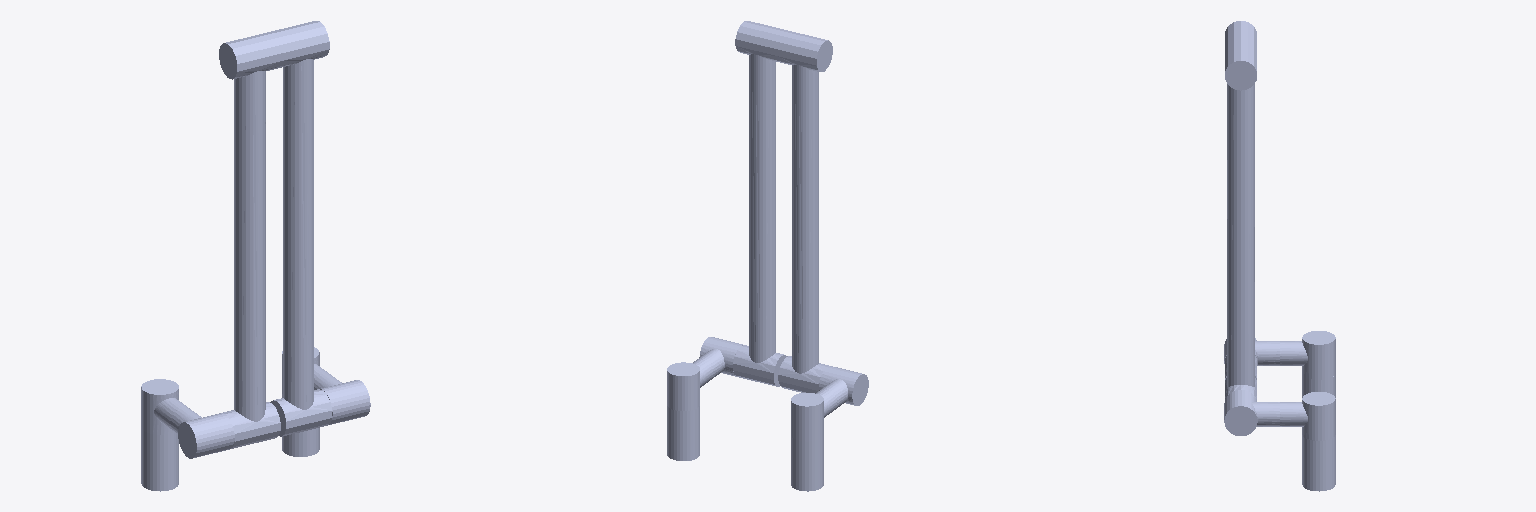
The robot description file, URDF, robot "jxb_z":
<?xml version="1.0" encoding="utf-8"?>
<!-- This URDF was automatically created by SolidWorks to URDF Exporter! Originally created by Stephen Brawner (brawner@gmail.com) 
     Commit Version: 1.6.0-4-g7f85cfe  Build Version: 1.6.7995.38578
     For more information, please see http://wiki.ros.org/sw_urdf_exporter -->
<robot
  name="jxb_z">
  <link name="world"/>
  <joint name="world_to_base_fixed_joint" type="fixed">
    <parent link="world"/>
    <child link="base_link"/>
    <origin xyz="0 0 0" rpy="0 0 0"/>
  </joint>
  <link
    name="base_link">
    <inertial>
      <origin
        xyz="8.8818E-16 0 0.5"
        rpy="0 0 0" />
      <mass
        value="28.274" />
      <inertia
        ixx="2.9924"
        ixy="1.2126E-32"
        ixz="4.6259E-17"
        iyy="2.9924"
        iyz="7.3687E-32"
        izz="1.2723" />
    </inertial>
    <visual>
      <origin
        xyz="0 0 0"
        rpy="0 0 0" />
      <geometry>
        <mesh
          filename="package://meshes/visual/base_link.STL" />
      </geometry>
      <material
        name="">
        <color
          rgba="0.79216 0.81961 0.93333 1" />
      </material>
    </visual>
    <collision>
      <origin
        xyz="0 0 0"
        rpy="0 0 0" />
      <geometry>
        <mesh
          filename="package://meshes/collision/base_link.STL" />
      </geometry>
    </collision>
  </link>
  <link
    name="link1">
    <inertial>
      <origin
        xyz="-2.4147E-08 -0.12374 -0.033299"
        rpy="0 0 0" />
      <mass
        value="26.519" />
      <inertia
        ixx="2.6441"
        ixy="-1.5987E-06"
        ixz="1.7625E-06"
        iyy="1.437"
        iyz="0.10927"
        izz="2.2777" />
    </inertial>
    <visual>
      <origin
        xyz="0 0 0"
        rpy="0 0 0" />
      <geometry>
        <mesh
          filename="package://meshes/visual/link1.STL" />
      </geometry>
      <material
        name="">
        <color
          rgba="0.79216 0.81961 0.93333 1" />
      </material>
    </visual>
    <collision>
      <origin
        xyz="0 0 0"
        rpy="0 0 0" />
      <geometry>
        <mesh
          filename="package://meshes/collision/link1.STL" />
      </geometry>
    </collision>
  </link>
  <joint
    name="joint1"
    type="revolute">
    <origin
      xyz="0 0 1.3946"
      rpy="0 0 0" />
    <parent
      link="base_link" />
    <child
      link="link1" />
    <axis
      xyz="0 0 1" />
    <limit
      lower="-4.2"
      upper="4.2"
      effort="1400"
      velocity="0.02" />
  </joint>
  <link
    name="link2">
    <inertial>
      <origin
        xyz="2.4147E-08 -0.033299 -0.12374"
        rpy="0 0 0" />
      <mass
        value="26.519" />
      <inertia
        ixx="2.6441"
        ixy="-1.7625E-06"
        ixz="1.5987E-06"
        iyy="2.2777"
        iyz="0.10927"
        izz="1.437" />
    </inertial>
    <visual>
      <origin
        xyz="0 0 0"
        rpy="0 0 0" />
      <geometry>
        <mesh
          filename="package://meshes/visual/link2.STL" />
      </geometry>
      <material
        name="">
        <color
          rgba="0.79216 0.81961 0.93333 1" />
      </material>
    </visual>
    <collision>
      <origin
        xyz="0 0 0"
        rpy="0 0 0" />
      <geometry>
        <mesh
          filename="package://meshes/collision/link2.STL" />
      </geometry>
    </collision>
  </link>
  <joint
    name="joint2"
    type="revolute">
    <origin
      xyz="0 -1.4 0"
      rpy="1.5708 1.5708 0" />
    <parent
      link="link1" />
    <child
      link="link2" />
    <axis
      xyz="0 0 1" />
    <limit
      lower="-4.2"
      upper="4.2"
      effort="1400"
      velocity="0.02" />
  </joint>
  <link
    name="link3">
    <inertial>
      <origin
        xyz="3.24999928445104 -8.30825477304842E-08 9.30659118658639E-07"
        rpy="0 0 0" />
      <mass
        value="165.055598878672" />
      <inertia
        ixx="7.67393622730273"
        ixy="0.000310929008824329"
        ixz="-3.90535221178077"
        iyy="859.721114184828"
        iyz="-0.000018551733039362"
        izz="857.903591002343" />
    </inertial>
    <visual>
      <origin
        xyz="0 0 0"
        rpy="0 0 0" />
      <geometry>
        <mesh
          filename="package://meshes/visual/link3.STL" />
      </geometry>
      <material
        name="">
        <color
          rgba="0.792156862745098 0.819607843137255 0.933333333333333 1" />
      </material>
    </visual>
    <collision>
      <origin
        xyz="0 0 0"
        rpy="0 0 0" />
      <geometry>
        <mesh
          filename="package://meshes/collision/link3.STL" />
      </geometry>
    </collision>
  </link>
  <joint
    name="joint3"
    type="revolute">
    <origin
      xyz="0 -0.84462 0"
      rpy="-1.5708 0 -3.1416" />
    <parent
      link="link2" />
    <child
      link="link3" />
    <axis
      xyz="0 0 1" />
    <limit
      lower="-4.2"
      upper="4.2"
      effort="1400"
      velocity="0.02" />
  </joint>
  <link
    name="link4">
    <inertial>
      <origin
        xyz="3.25000071554896 -8.30825486186626E-08 -9.3065911777046E-07"
        rpy="0 0 0" />
      <mass
        value="165.055598878671" />
      <inertia
        ixx="7.67393622730272"
        ixy="-0.00031092900887968"
        ixz="-3.9053522117808"
        iyy="859.721114184827"
        iyz="0.0000185517330379911"
        izz="857.903591002342" />
    </inertial>
    <visual>
      <origin
        xyz="0 0 0"
        rpy="0 0 0" />
      <geometry>
        <mesh
          filename="package://meshes/visual/link4.STL" />
      </geometry>
      <material
        name="">
        <color
          rgba="0.792156862745098 0.819607843137255 0.933333333333333 1" />
      </material>
    </visual>
    <collision>
      <origin
        xyz="0 0 0"
        rpy="0 0 0" />
      <geometry>
        <mesh
          filename="package://meshes/collision/link4.STL" />
      </geometry>
    </collision>
  </link>
  <joint
    name="joint4"
    type="revolute">
    <origin
      xyz="6.5 0 0.9"
      rpy="0 0 -3.1416" />
    <parent
      link="link3" />
    <child
      link="link4" />
    <axis
      xyz="0 0 1" />
    <limit
      lower="-4.2"
      upper="4.2"
      effort="1400"
      velocity="0.02" />
  </joint>
  <link
    name="link5">
    <inertial>
      <origin
        xyz="-2.4147E-08 -0.12374 -0.033299"
        rpy="0 0 0" />
      <mass
        value="26.519" />
      <inertia
        ixx="2.6441"
        ixy="-1.5987E-06"
        ixz="1.7625E-06"
        iyy="1.437"
        iyz="0.10927"
        izz="2.2777" />
    </inertial>
    <visual>
      <origin
        xyz="0 0 0"
        rpy="0 0 0" />
      <geometry>
        <mesh
          filename="package://meshes/visual/link5.STL" />
      </geometry>
      <material
        name="">
        <color
          rgba="0.79216 0.81961 0.93333 1" />
      </material>
    </visual>
    <collision>
      <origin
        xyz="0 0 0"
        rpy="0 0 0" />
      <geometry>
        <mesh
          filename="package://meshes/collision/link5.STL" />
      </geometry>
    </collision>
  </link>
  <joint
    name="joint5"
    type="revolute">
    <origin
      xyz="6.5 0 0.84462"
      rpy="0 0 0" />
    <parent
      link="link4" />
    <child
      link="link5" />
    <axis
      xyz="0 0 1" />
    <limit
      lower="-4.2"
      upper="4.2"
      effort="1400"
      velocity="0.02" />
  </joint>
  <link
    name="link6">
    <inertial>
      <origin
        xyz="2.41473299134043E-08 -0.0332987872996737 -0.123744412237511"
        rpy="0 0 0" />
      <mass
        value="26.5185252602342" />
      <inertia
        ixx="2.64411663116475"
        ixy="-1.76246296483516E-06"
        ixz="1.59873986564568E-06"
        iyy="2.27771417994653"
        iyz="0.109270517187409"
        izz="1.43697100438134" />
    </inertial>
    <visual>
      <origin
        xyz="0 0 0"
        rpy="0 0 0" />
      <geometry>
        <mesh
          filename="package://meshes/visual/link6.STL" />
      </geometry>
      <material
        name="">
        <color
          rgba="0.792156862745098 0.819607843137255 0.933333333333333 1" />
      </material>
    </visual>
    <collision>
      <origin
        xyz="0 0 0"
        rpy="0 0 0" />
      <geometry>
        <mesh
          filename="package://meshes/collision/link6.STL" />
      </geometry>
    </collision>
  </link>
  <joint
    name="joint6"
    type="revolute">
    <origin
      xyz="0 -1.4 0"
      rpy="1.5708 -1.5708 0" />
    <parent
      link="link5" />
    <child
      link="link6" />
    <axis
      xyz="0 0 1" />
    <limit
      lower="-4.2"
      upper="4.2"
      effort="1400"
      velocity="0.02" />
  </joint>
  <link
    name="link7">
    <inertial>
      <origin
        xyz="0 0 -0.5"
        rpy="0 0 0" />
      <mass
        value="28.274" />
      <inertia
        ixx="2.9924"
        ixy="-1.3878E-16"
        ixz="4.6259E-17"
        iyy="2.9924"
        iyz="-4.6259E-17"
        izz="1.2723" />
    </inertial>
    <visual>
      <origin
        xyz="0 0 0"
        rpy="0 0 0" />
      <geometry>
        <mesh
          filename="package://meshes/visual/link7.STL" />
      </geometry>
      <material
        name="">
        <color
          rgba="0.79216 0.81961 0.93333 1" />
      </material>
    </visual>
    <collision>
      <origin
        xyz="0 0 0"
        rpy="0 0 0" />
      <geometry>
        <mesh
          filename="package://meshes/collision/link7.STL" />
      </geometry>
    </collision>
  </link>
  <joint
    name="joint7"
    type="revolute">
    <origin
      xyz="0 -1.3946 0"
      rpy="1.5708 0 0" />
    <parent
      link="link6" />
    <child
      link="link7" />
    <axis
      xyz="0 0 1" />
    <limit
      lower="-4.2"
      upper="4.2"
      effort="1400"
      velocity="0.02" />
  </joint>

  <link name="end_effector_frame" />
  <joint name="end_effector_joint" type="fixed">
    <parent link="link7"/>
    <child link="end_effector_frame"/>
    <origin xyz="0 0 0" rpy="0 0 0"/>
  </joint>

  <!-- 定义机械臂的抓取点 (等效于MuJoCo的site) -->
  <link name="end_effector_site" />
  <joint name="end_effector_site_joint" type="fixed">
    <parent link="end_effector_frame"/>
    <child link="end_effector_site"/>
    <origin xyz="0 0 0" rpy="0 0 0"/>
  </joint>

</robot>

--- Facts derived from the render (not from the file) ---
3 views of the same robot in one strip: view 1: azimuth 30°, elevation 25°; view 2: azimuth 150°, elevation 25°; view 3: azimuth 270°, elevation 25° (orthographic).
Robot: jxb_z — 11 links, 10 joints (7 revolute, 3 fixed); root link world; default pose: all joints at 0.
Links seen in each view (by area): view 1: link4, link3, link5, link7, link6, link2, base_link; view 2: link4, link3, link1, link6, base_link, link7, link5, link2; view 3: link3, link6, link1, link2, base_link, link4, link5.
Link boxes in pixels (bbox=[...]): link4: bbox=[219, 32, 283, 448]; link3: bbox=[270, 21, 331, 436]; link5: bbox=[170, 407, 234, 458]; link7: bbox=[141, 427, 178, 491]; link6: bbox=[141, 379, 189, 434]; link2: bbox=[314, 373, 370, 424]; base_link: bbox=[282, 394, 319, 456]; link4: bbox=[776, 30, 832, 393]; link3: bbox=[733, 21, 787, 386]; link1: bbox=[667, 359, 713, 410]; link6: bbox=[791, 389, 836, 441]; base_link: bbox=[667, 406, 699, 460]; link7: bbox=[791, 436, 823, 491]; link5: bbox=[819, 366, 868, 409]; link2: bbox=[697, 337, 742, 379]; link3: bbox=[1225, 41, 1256, 398]; link6: bbox=[1280, 331, 1335, 379]; link1: bbox=[1280, 392, 1335, 440]; link2: bbox=[1224, 390, 1279, 435]; base_link: bbox=[1302, 435, 1335, 491]; link4: bbox=[1225, 21, 1256, 379]; link5: bbox=[1224, 338, 1279, 365].
Size in the robot's own frame: 3.2 by 2 by 8.19 metres.
8 mesh visuals loaded from 8 distinct referenced files (8 binary STL).
